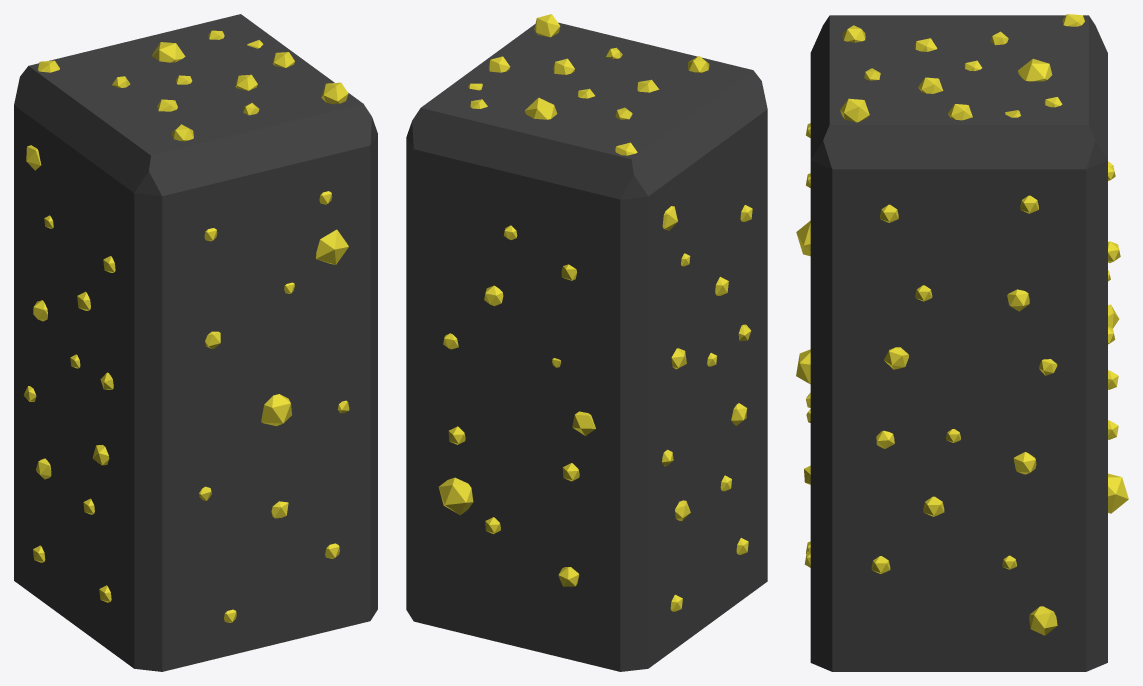
File: Rock1.fbx
3 renders of one model, left to right at view 1: azimuth 30°, elevation 25°; view 2: azimuth 150°, elevation 25°; view 3: azimuth 270°, elevation 25°, orthographic. The views are drawn at different scales.
Parts seen in each view (by area): view 1: Rock; view 2: Rock; view 3: Rock.
Boxes of the visible parts, left/top/right/bottom form: Rock: left=14, top=14, right=377, bottom=671; Rock: left=406, top=14, right=767, bottom=671; Rock: left=796, top=14, right=1128, bottom=671.
Size of the model in its own units: 110 by 206 by 112.
